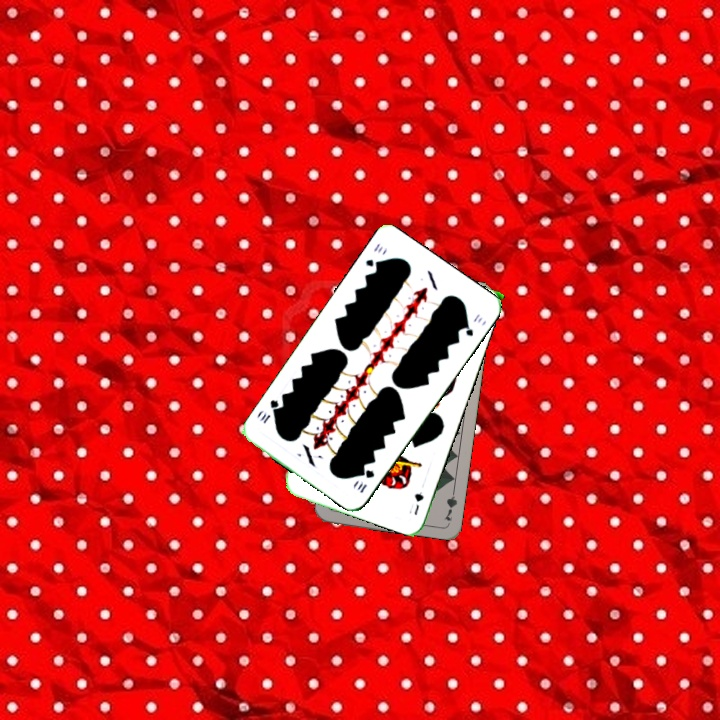G10: (361, 238, 386, 271), (353, 465, 377, 496)
G7: (440, 483, 460, 523)
GU: (410, 487, 426, 518)
